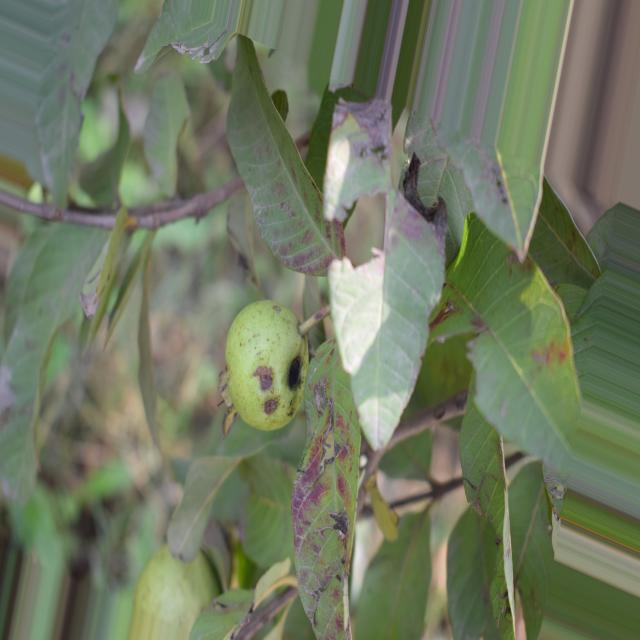Canker: (324, 98, 448, 450), (292, 341, 361, 639), (460, 377, 515, 639)
